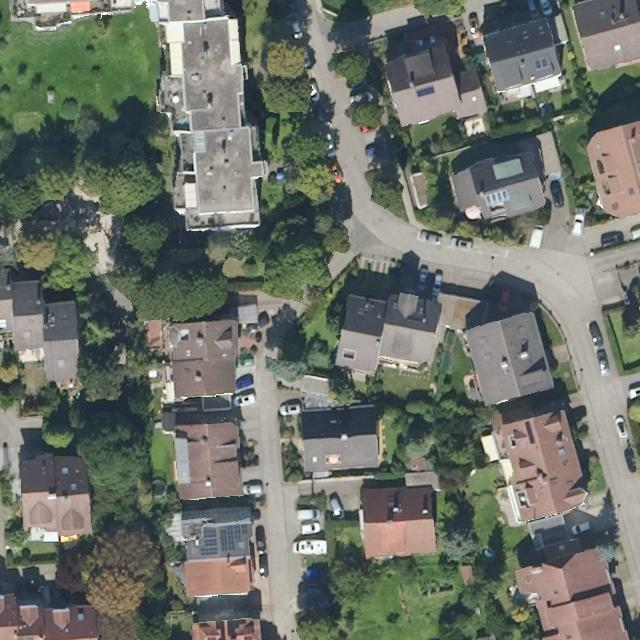PV: (219, 523, 250, 554), (198, 525, 220, 559)
